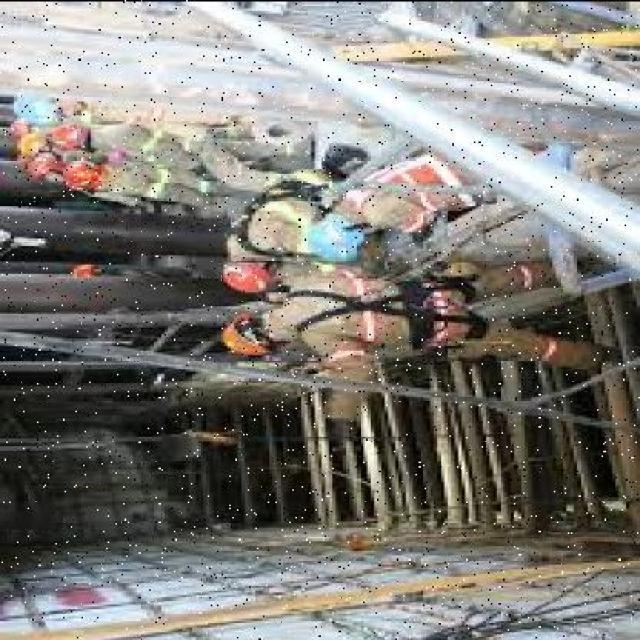Arnes_seguridad: (286, 270, 474, 353), (220, 185, 343, 262), (372, 150, 478, 230)
